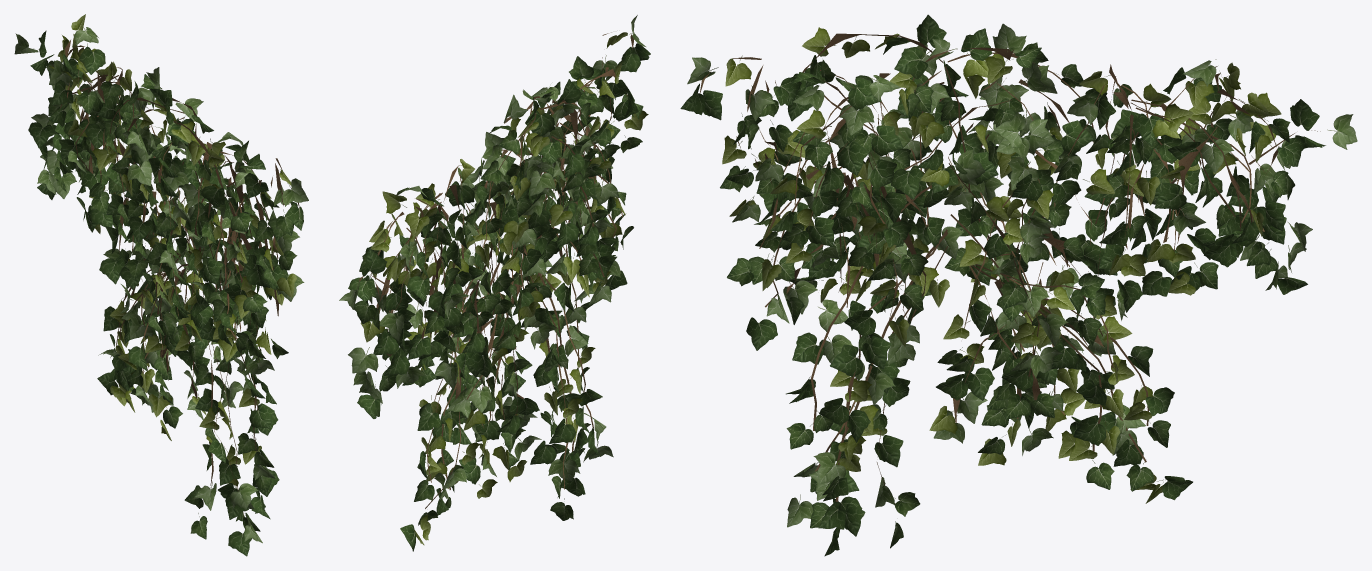
The model's file is SM_Ivy_01a.fbx.
3 renders of one model, left to right at view 1: azimuth 30°, elevation 25°; view 2: azimuth 150°, elevation 25°; view 3: azimuth 270°, elevation 25°, orthographic. The views are drawn at different scales.
Visible parts, largest first — view 1: SM_Ivy_01a; view 2: SM_Ivy_01a; view 3: SM_Ivy_01a.
Boxes of the visible parts, x1=… form: SM_Ivy_01a: x1=14, y1=14, x2=308, y2=556; SM_Ivy_01a: x1=339, y1=15, x2=650, y2=551; SM_Ivy_01a: x1=680, y1=14, x2=1357, y2=556.
Bounding box in the file's own units: 56.91 × 261 × 224.
2 materials, 2 textured.
